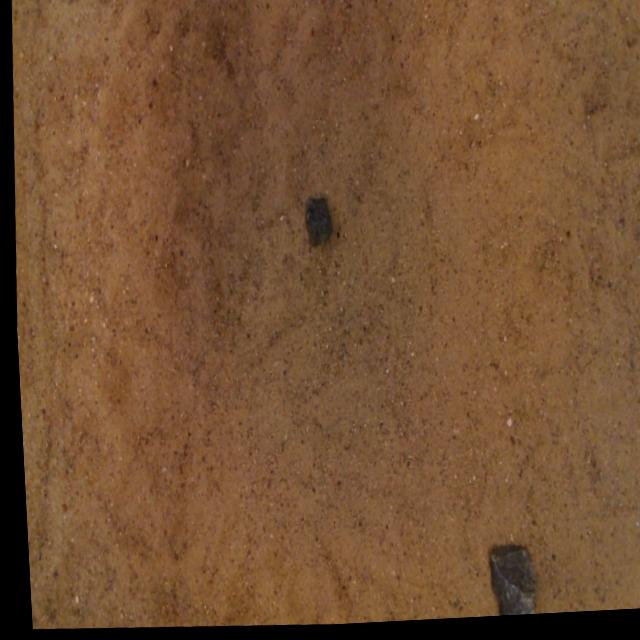rock: (483, 552, 529, 621), (303, 202, 329, 250)
